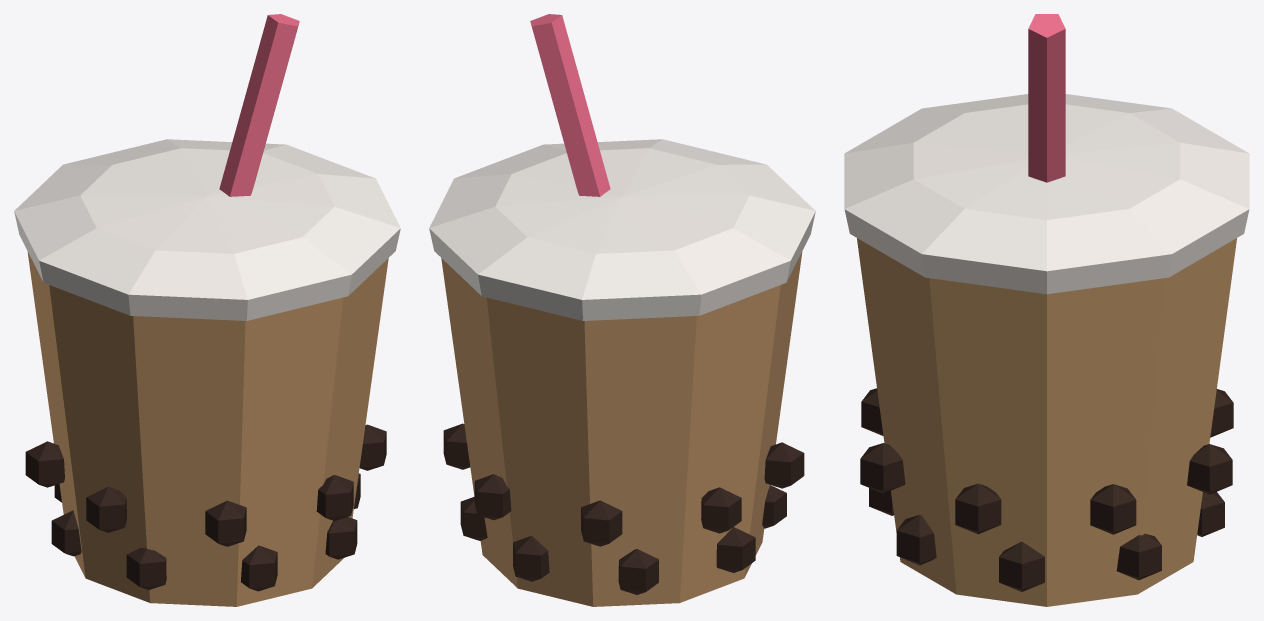
File: Food_BubbleTea.obj
3 views of the same model, side by side, from view 1: azimuth 30°, elevation 25°; view 2: azimuth 150°, elevation 25°; view 3: azimuth 270°, elevation 25° (orthographic). The views are drawn at different scales.
Bounding box in the file's own units: 1.52 × 2.22 × 1.45.
